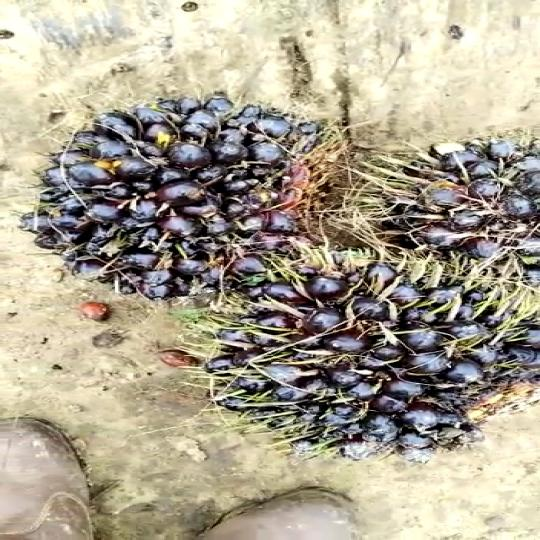mentah: (19, 80, 352, 306), (203, 250, 540, 460), (344, 108, 540, 279)
